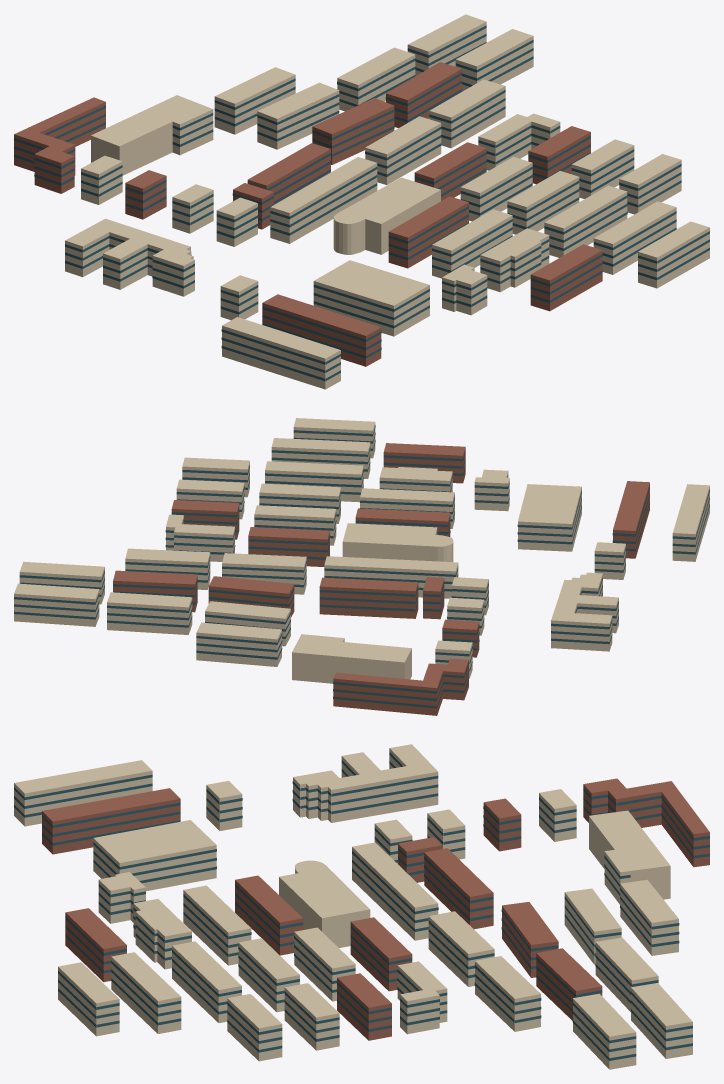
File: city_8_0.glb
3 views of the same model, one above another, from view 1: azimuth 30°, elevation 25°; view 2: azimuth 150°, elevation 25°; view 3: azimuth 270°, elevation 25° (orthographic). The views are drawn at different scales.
Parts seen in each view (by area): view 1: city_8_0; view 2: city_8_0; view 3: city_8_0.
Boxes of the visible parts, x1,y1,x2,y2 form: city_8_0: [14, 14, 709, 389]; city_8_0: [14, 418, 709, 715]; city_8_0: [14, 744, 709, 1069].
Bounding box in the file's own units: 285 × 15 × 286.
